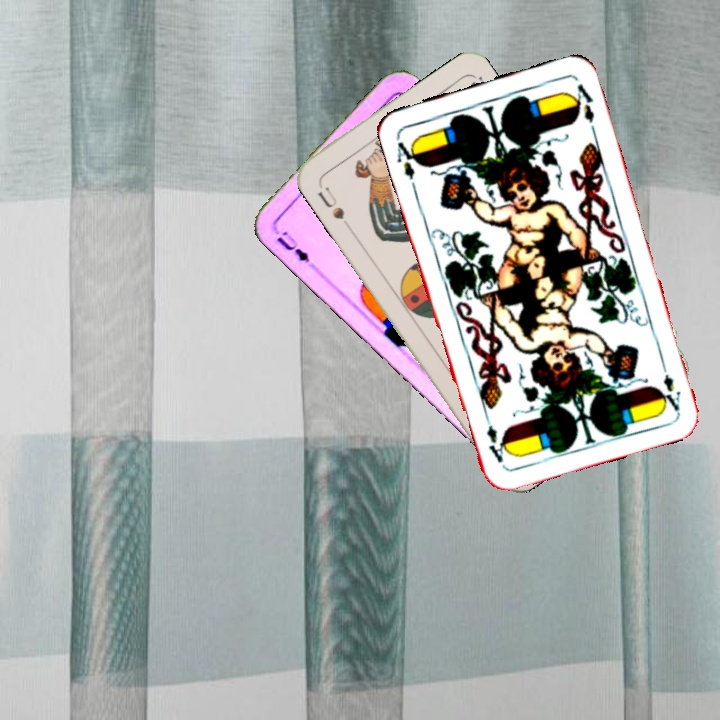EA: (655, 356, 683, 414), (392, 132, 423, 183)
EU: (270, 225, 319, 270)
SU: (313, 178, 353, 231)
